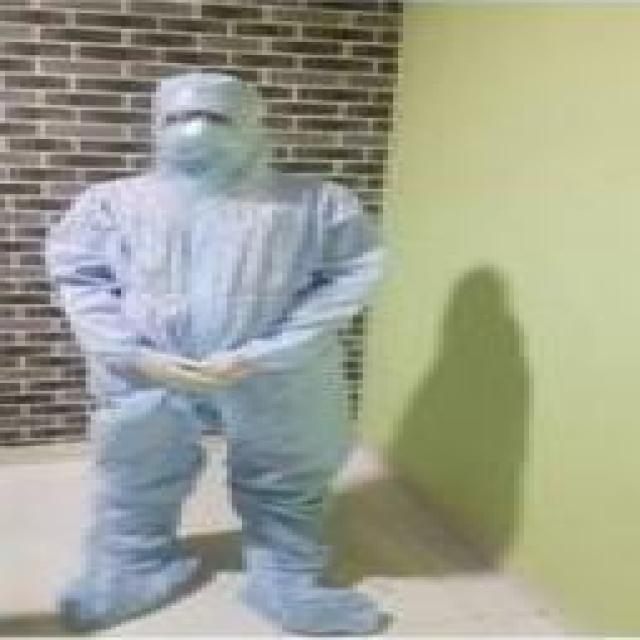Coverall: (10, 32, 433, 632)
Gloves: (111, 318, 262, 410)
Mask: (136, 124, 277, 166)
